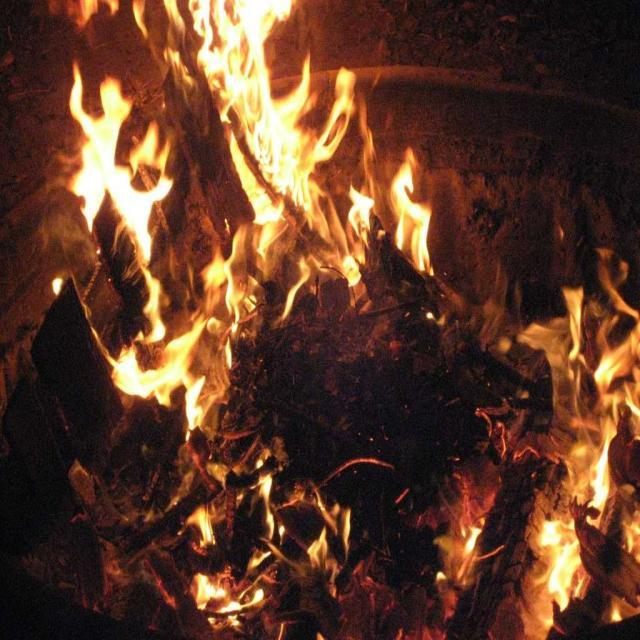Fire: (194, 8, 339, 237), (110, 264, 252, 429), (554, 314, 632, 568), (343, 92, 433, 284), (64, 75, 160, 244), (460, 497, 551, 632), (188, 506, 264, 624), (268, 242, 322, 318)
